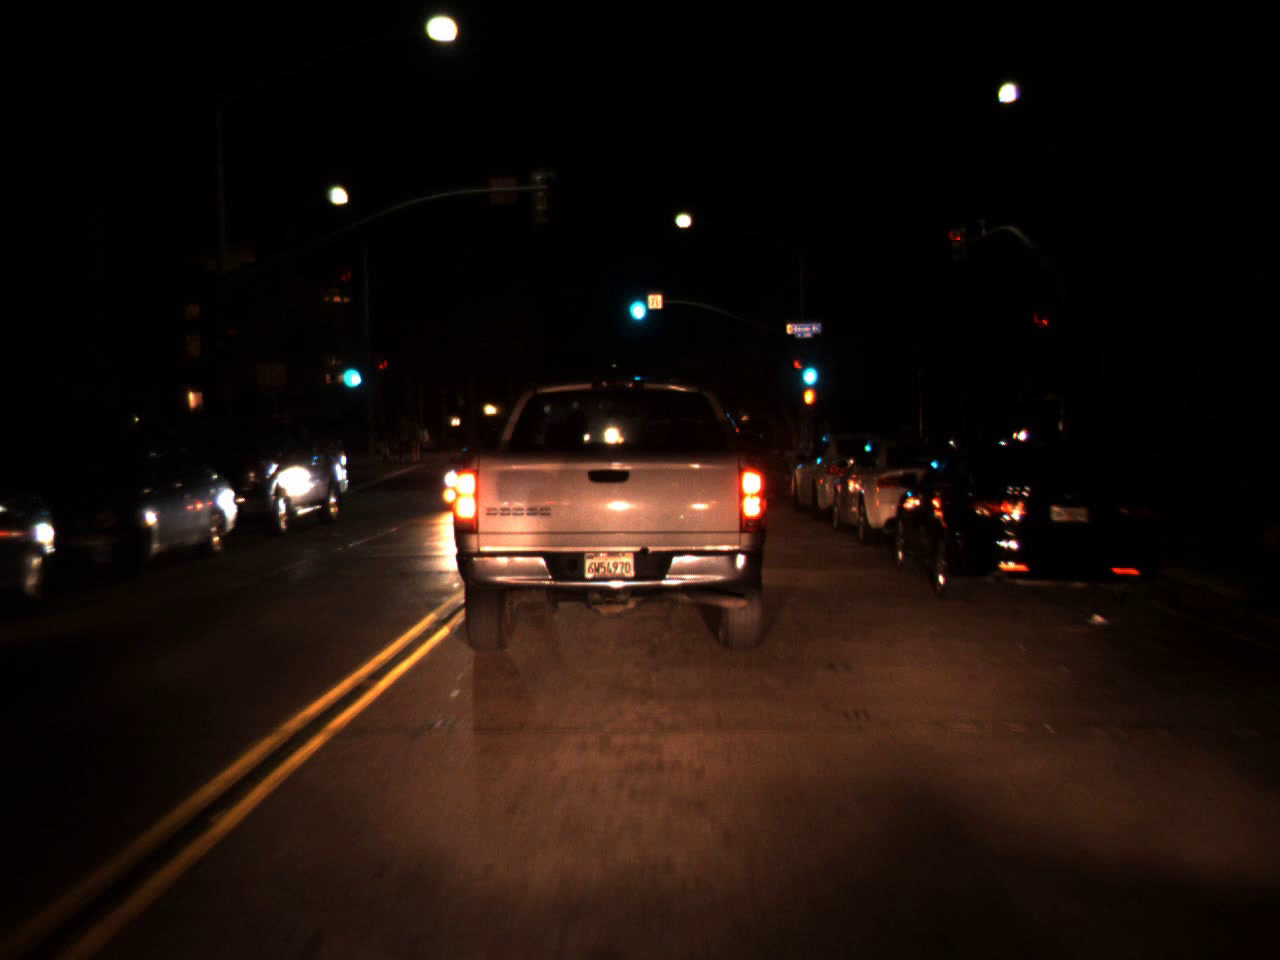go: (336, 346, 364, 394), (622, 278, 649, 326), (798, 345, 819, 393)
